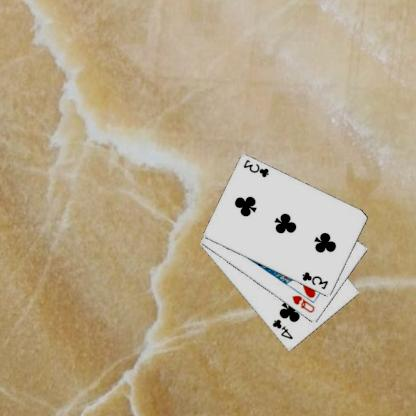3C: (301, 269, 332, 291), (242, 156, 272, 178)
4C: (271, 317, 296, 341)
QH: (291, 293, 318, 314)
